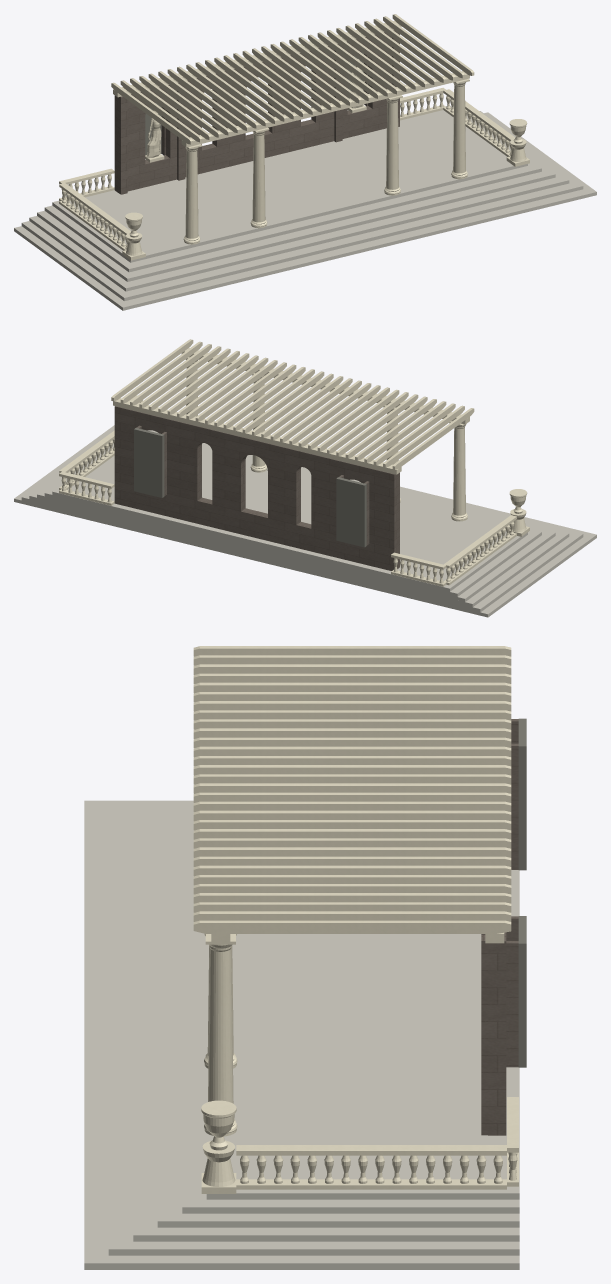
The model's file is changning-zhongshan-park-marble-pavilion-web.glb.
3 renders of one model, top to bottom at view 1: azimuth 30°, elevation 25°; view 2: azimuth 150°, elevation 25°; view 3: azimuth 270°, elevation 25°, orthographic. The views are drawn at different scales.
Visible parts, largest first — view 1: 中山公园大理石亭; view 2: 中山公园大理石亭; view 3: 中山公园大理石亭.
Part boxes in pixels (box(x1,y1,x2,y2)): 中山公园大理石亭: box(14, 14, 596, 310); 中山公园大理石亭: box(14, 339, 596, 617); 中山公园大理石亭: box(84, 646, 526, 1269).
Bounding box in the file's own units: 18.7 × 4.78 × 7.56.
4 materials, 2 textured.
